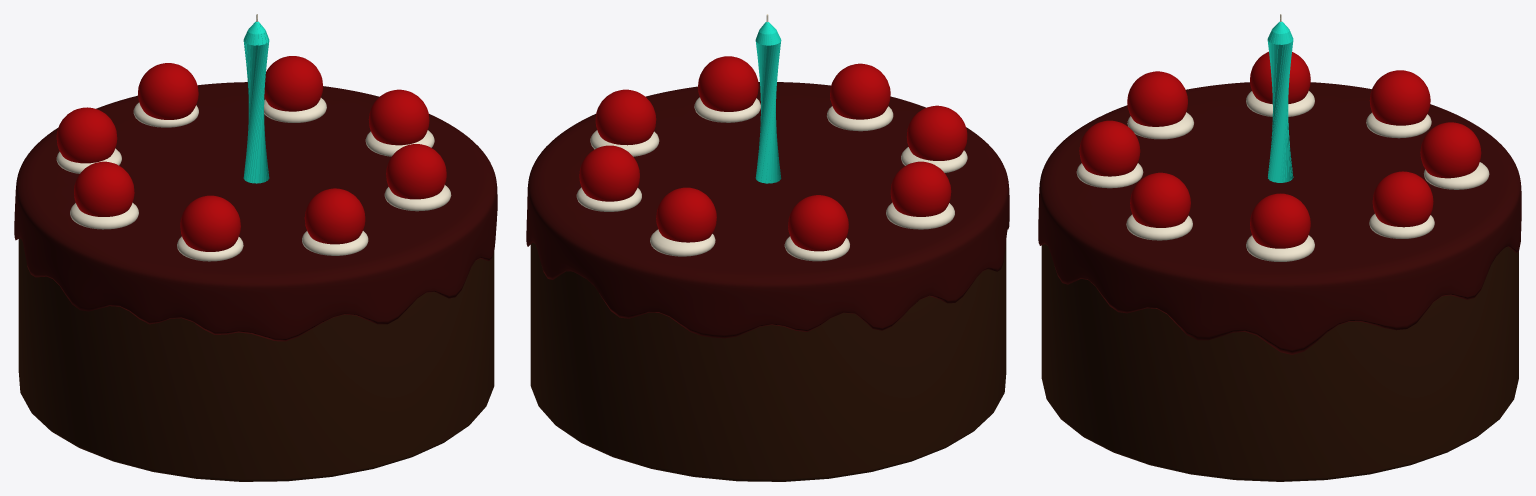
The model's file is cake.glb.
The picture shows the model from 3 angles, left to right: view 1: azimuth 30°, elevation 25°; view 2: azimuth 150°, elevation 25°; view 3: azimuth 270°, elevation 25°; orthographic projection.
Parts seen in each view (by area): view 1: Cylinder.002_0, Cylinder.004_3, Cylinder.005_4, Cylinder.003_2, Cylinder.001_1; view 2: Cylinder.002_0, Cylinder.004_3, Cylinder.005_4, Cylinder.003_2, Cylinder.001_1; view 3: Cylinder.002_0, Cylinder.004_3, Cylinder.005_4, Cylinder.003_2, Cylinder.001_1.
Boxes of the visible parts, x1,y1,x2,y2 form: Cylinder.002_0: (14,82,497,341); Cylinder.004_3: (18,238,494,481); Cylinder.005_4: (56,56,446,251); Cylinder.003_2: (56,14,451,261); Cylinder.001_1: (243,21,269,183); Cylinder.002_0: (526,82,1009,338); Cylinder.004_3: (530,241,1006,481); Cylinder.005_4: (579,56,967,251); Cylinder.003_2: (576,14,967,261); Cylinder.001_1: (755,22,781,183); Cylinder.002_0: (1038,82,1521,354); Cylinder.004_3: (1041,244,1518,481); Cylinder.005_4: (1079,51,1481,248); Cylinder.003_2: (1076,14,1489,261); Cylinder.001_1: (1267,21,1293,182).
Bounding box in the file's own units: 0.8138 × 0.6886 × 0.8128.
